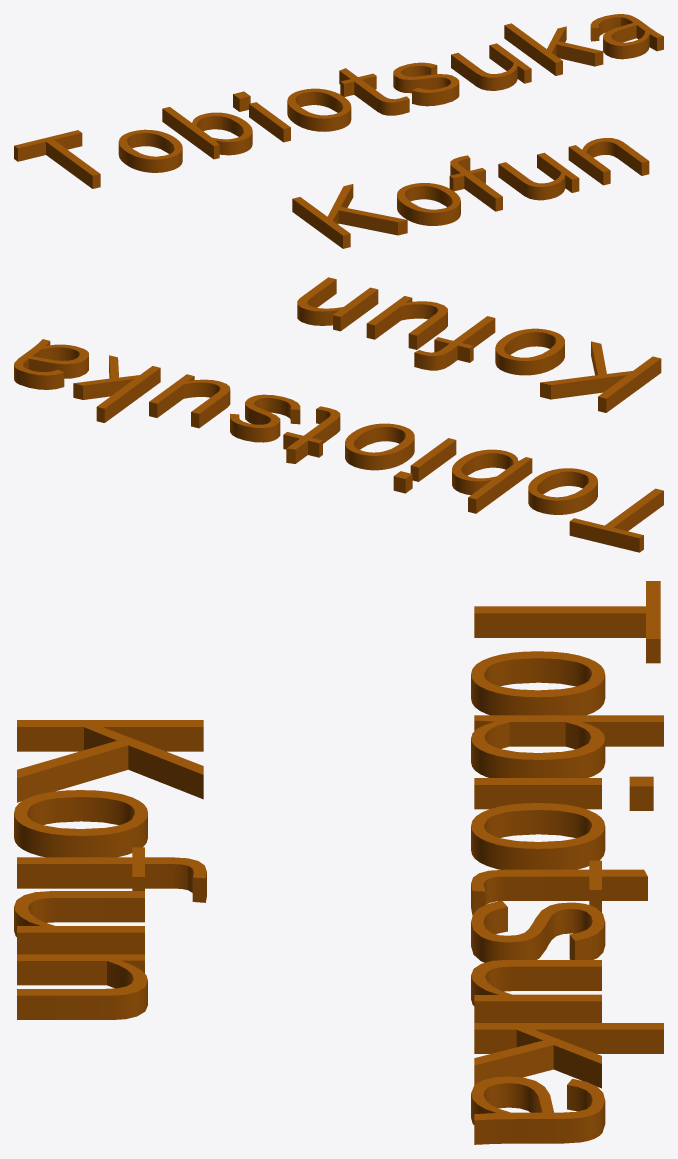
The model's file is 3DTitle Tobiotsuka.fbx.
3 views of the same model, one above another, from view 1: azimuth 30°, elevation 25°; view 2: azimuth 150°, elevation 25°; view 3: azimuth 270°, elevation 25° (orthographic). The views are drawn at different scales.
Parts seen in each view (by area): view 1: Tobiotsuka Kofun; view 2: Tobiotsuka Kofun; view 3: Tobiotsuka Kofun.
Boxes of the visible parts, x1,y1,x2,y2 form: Tobiotsuka Kofun: (14, 14, 663, 248); Tobiotsuka Kofun: (14, 277, 663, 552); Tobiotsuka Kofun: (14, 581, 663, 1144).
Bounding box in the file's own units: 177 × 3.75 × 90.26.
